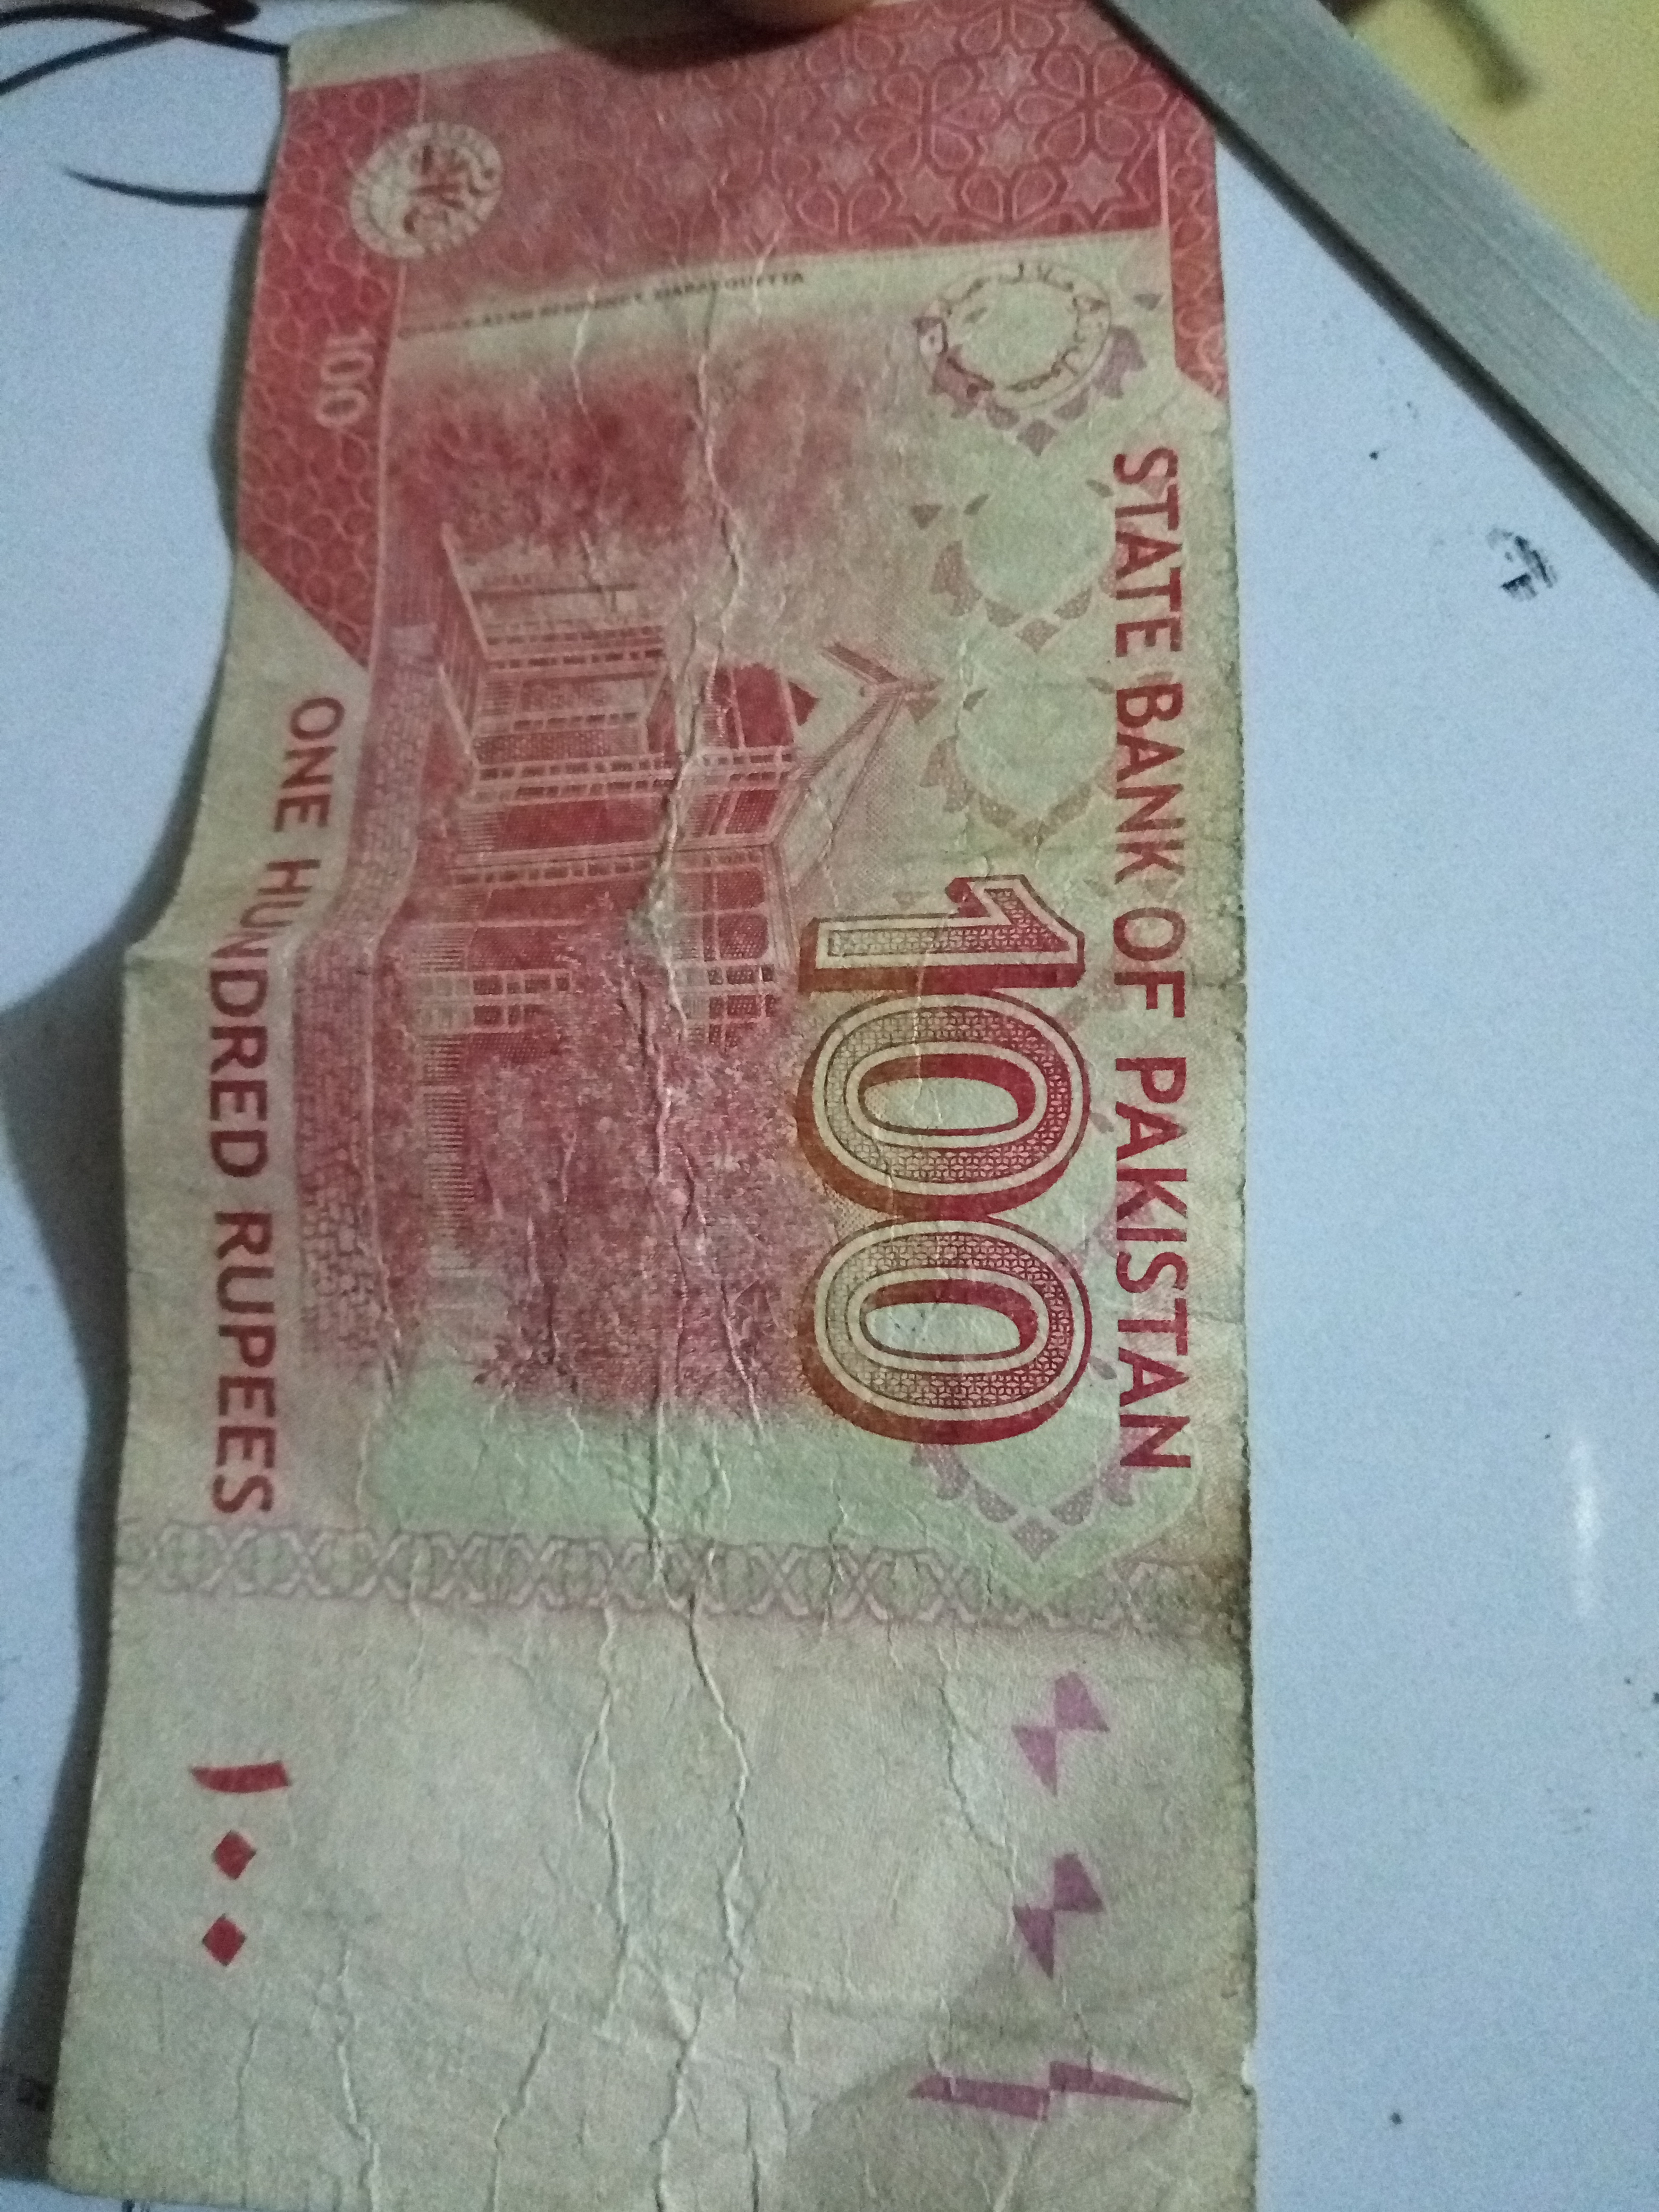100 rupee: (82, 0, 1267, 2212)
